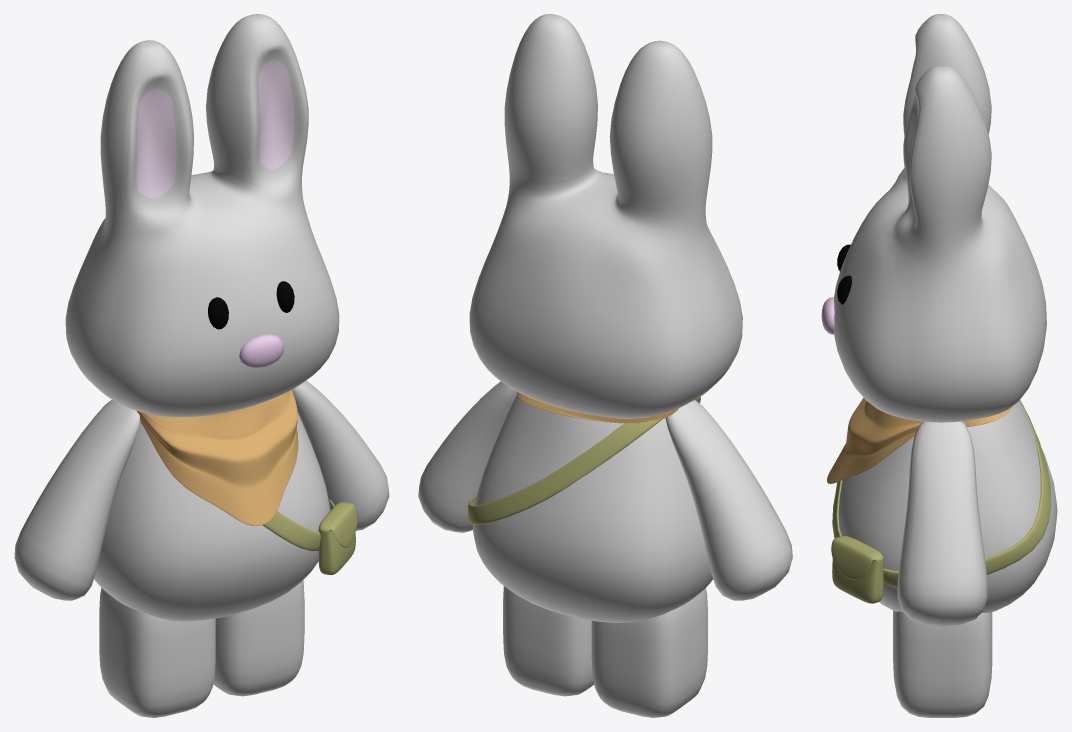
Rendered from bunny_model_1.fbx.
3 views of the same model, side by side, from view 1: azimuth 30°, elevation 25°; view 2: azimuth 150°, elevation 25°; view 3: azimuth 270°, elevation 25° (orthographic). The views are drawn at different scales.
Parts seen in each view (by area): view 1: Bunny_high1_L_arm; view 2: Bunny_high1_L_arm; view 3: Bunny_high1_L_arm.
Part boxes in pixels (x1,y1,x2,y2): Bunny_high1_L_arm: (14,14,389,717); Bunny_high1_L_arm: (418,14,792,717); Bunny_high1_L_arm: (821,14,1057,717).
Size of the model in its own units: 8.12 by 14.32 by 4.76.
